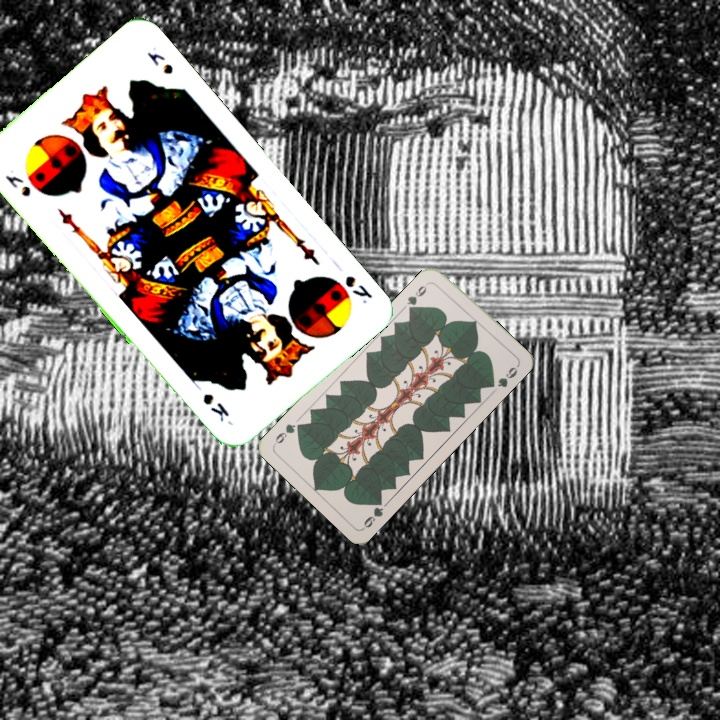G9: (403, 278, 433, 314), (359, 494, 386, 531)
SK: (341, 271, 375, 307), (1, 171, 34, 200)
